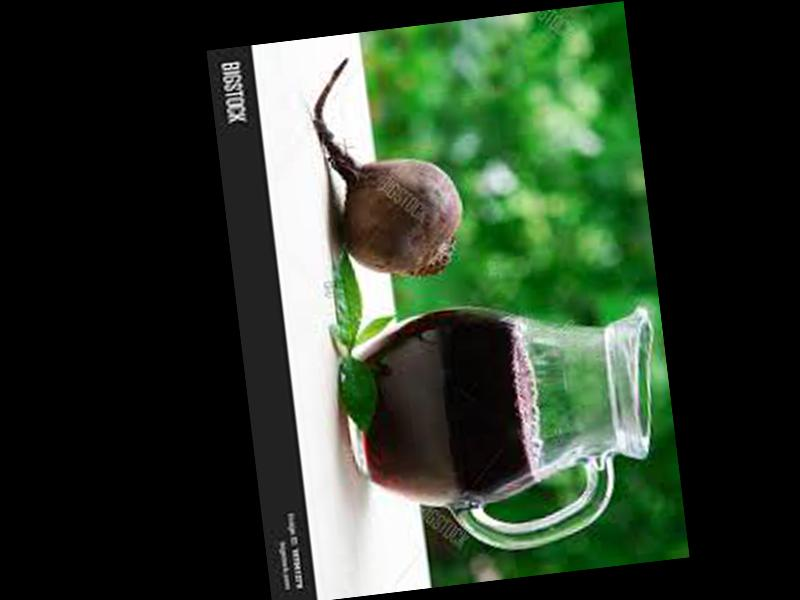Beet: (305, 49, 467, 285)
